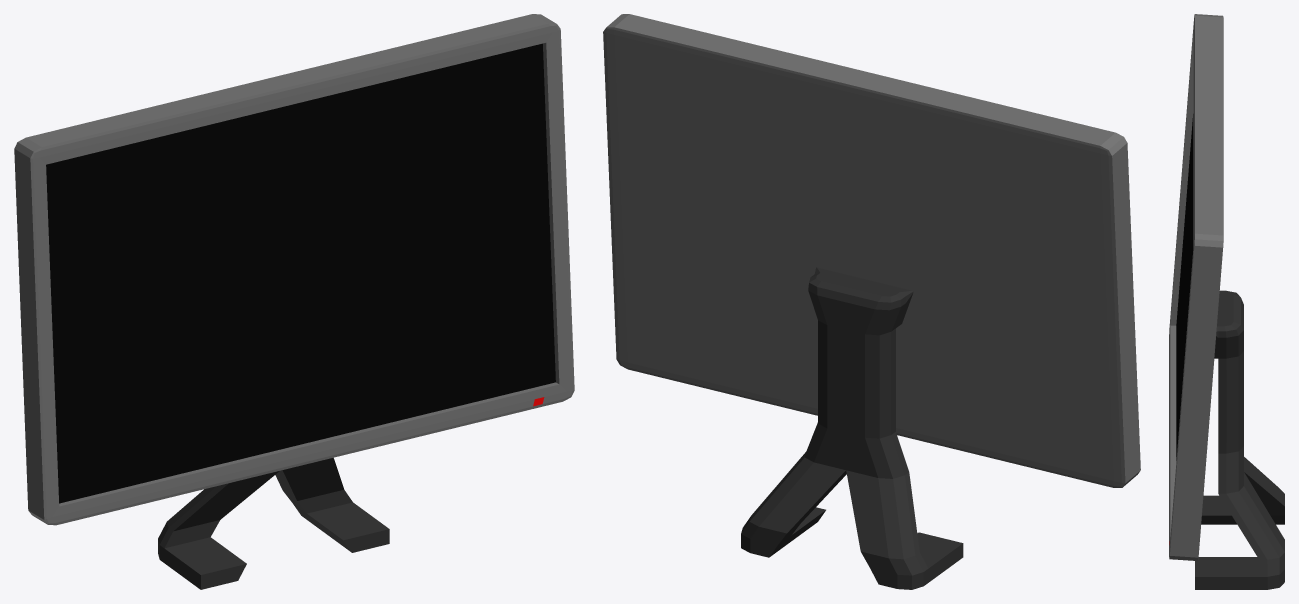
The model's file is Monitor_Final.fbx.
3 renders of one model, left to right at view 1: azimuth 30°, elevation 25°; view 2: azimuth 150°, elevation 25°; view 3: azimuth 270°, elevation 25°, orthographic. The views are drawn at different scales.
Visible parts, largest first — view 1: Cube.001; view 2: Cube.001; view 3: Cube.001.
Part boxes in pixels (x1=…): Cube.001: x1=14, y1=14, x2=574, y2=589; Cube.001: x1=603, y1=14, x2=1140, y2=589; Cube.001: x1=1169, y1=14, x2=1284, y2=589.
Bounding box in the file's own units: 60.04 × 52.08 × 12.87.
